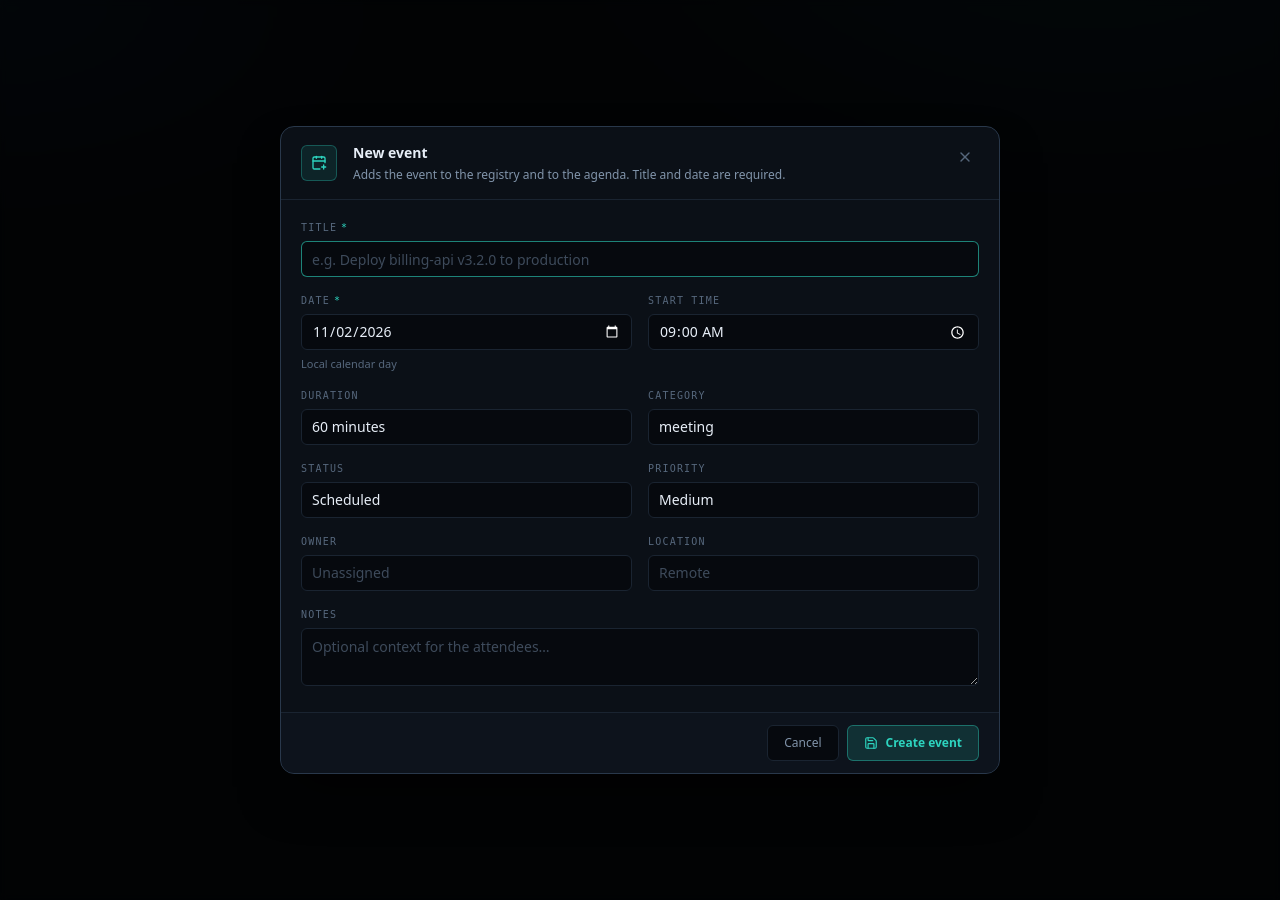
EventForm › keeps the dialog open and surfaces a save failure
This screenshot has width=1280, height=900.
Type "Will fail" into the field labelled "Title *". click: (640, 259)
box: [301,241,979,277]
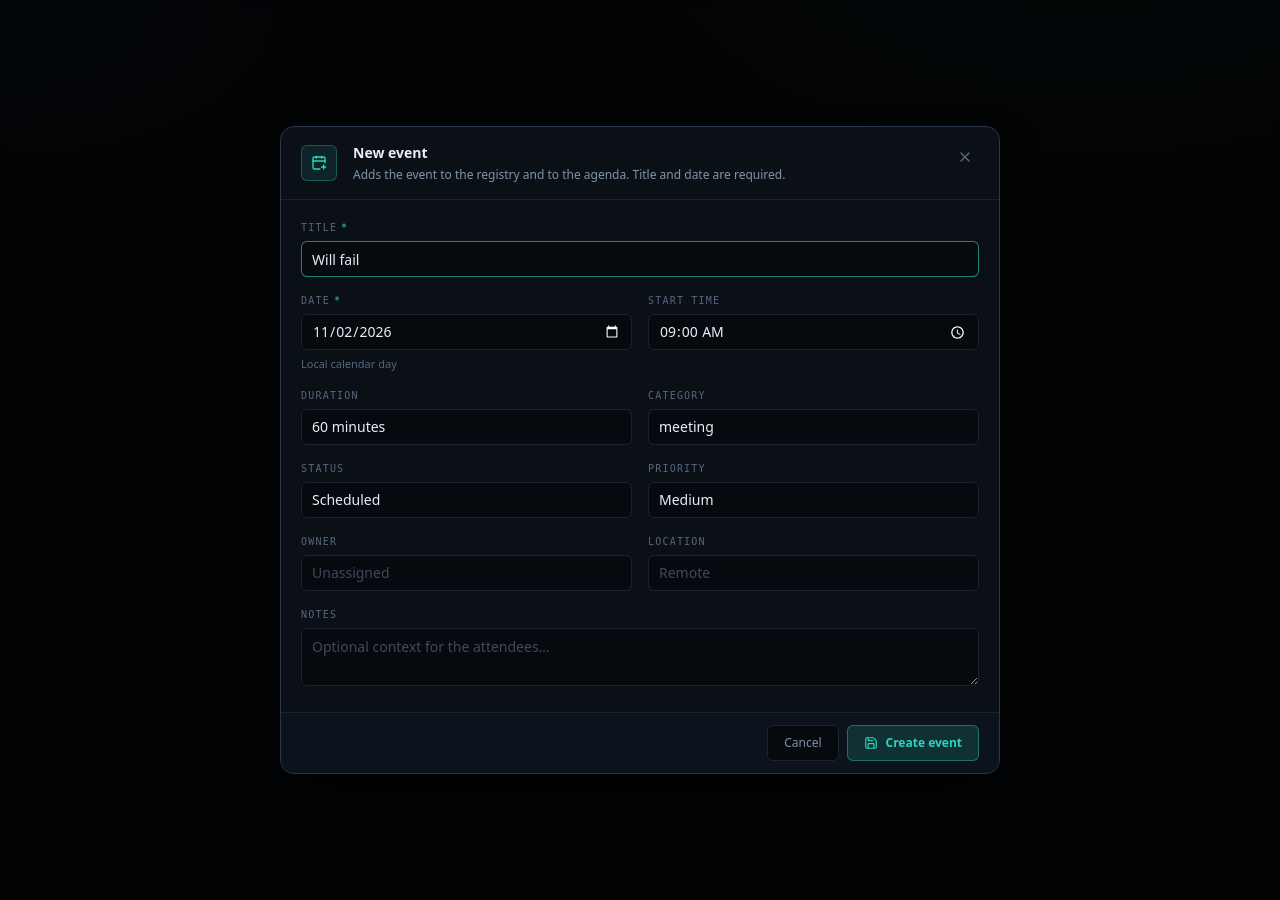
Click the button "Create event". click: (913, 743)
box: [846,725,979,761]
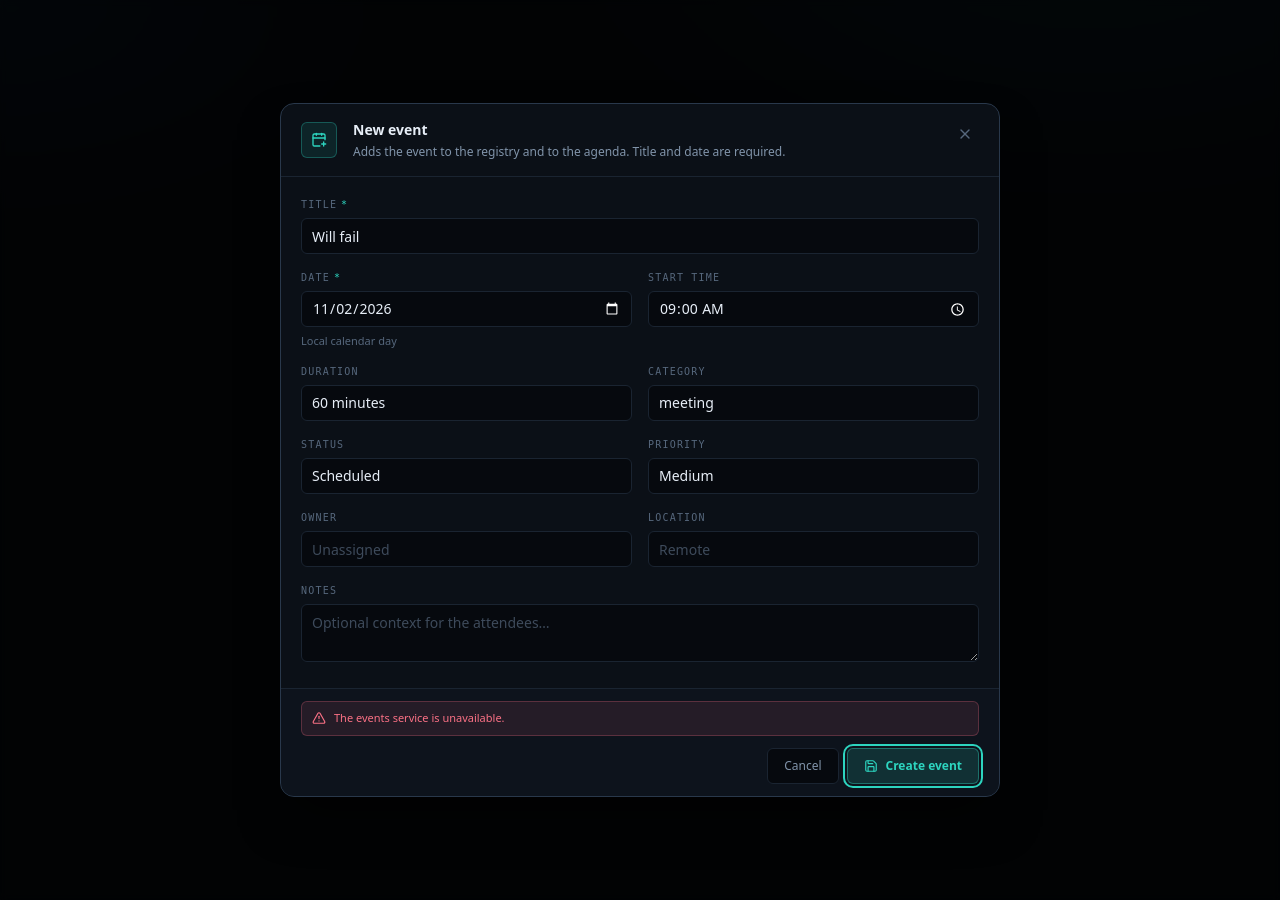
Expected: the dialog is shown, [280,103,1000,797]
Expected: the message reads "The events service is unavailable.", [334,710,504,725]
